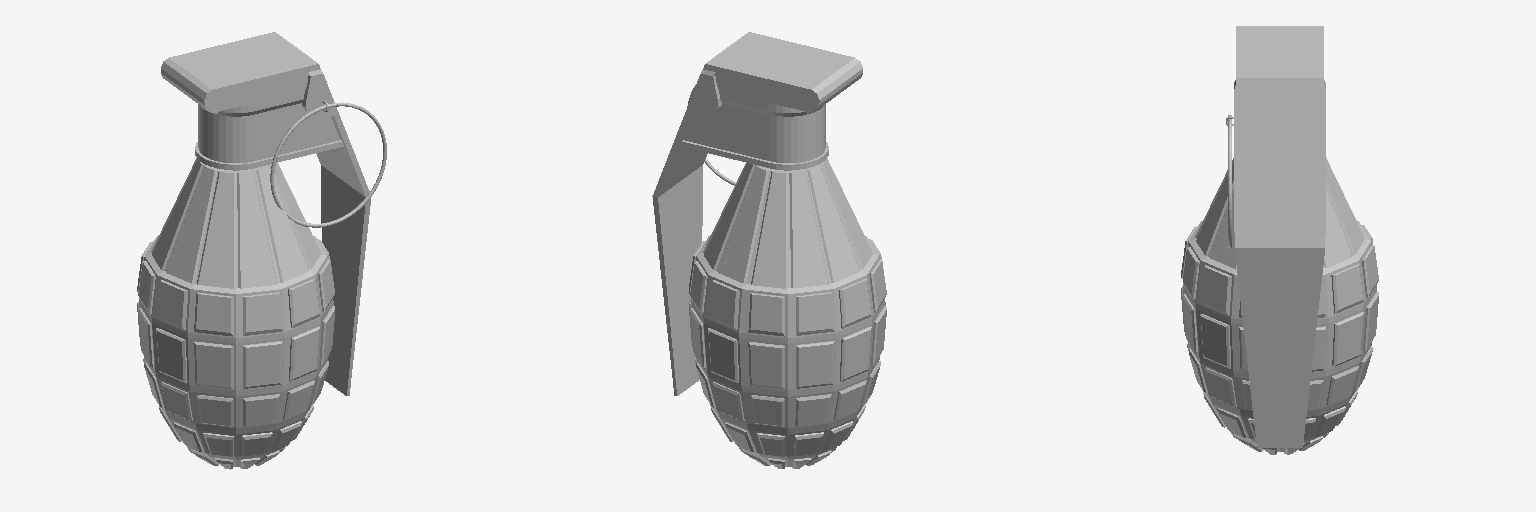
File: GrenadeModel.obj
3 renders of one model, left to right at view 1: azimuth 30°, elevation 25°; view 2: azimuth 150°, elevation 25°; view 3: azimuth 270°, elevation 25°, orthographic.
Visible parts, largest first — view 1: Sphere_Sphere.001, Cube_Cube.001, Cylinder_Cylinder.002, Torus, Cylinder.001_Cylinder.003; view 2: Sphere_Sphere.001, Cube_Cube.001, Cylinder_Cylinder.002, Cylinder.001_Cylinder.003; view 3: Cube_Cube.001, Sphere_Sphere.001.
Part boxes in pixels (bbox=[...]): Sphere_Sphere.001: bbox=[137, 158, 334, 469]; Cube_Cube.001: bbox=[161, 32, 371, 395]; Cylinder_Cylinder.002: bbox=[195, 91, 343, 169]; Torus: bbox=[270, 102, 386, 227]; Cylinder.001_Cylinder.003: bbox=[210, 73, 308, 111]; Sphere_Sphere.001: bbox=[689, 158, 886, 468]; Cube_Cube.001: bbox=[652, 32, 862, 395]; Cylinder_Cylinder.002: bbox=[680, 91, 828, 169]; Cylinder.001_Cylinder.003: bbox=[715, 73, 813, 111]; Cube_Cube.001: bbox=[1234, 26, 1325, 447]; Sphere_Sphere.001: bbox=[1181, 158, 1378, 454].
Bounding box in the file's own units: 2.66 × 4.76 × 2.16.